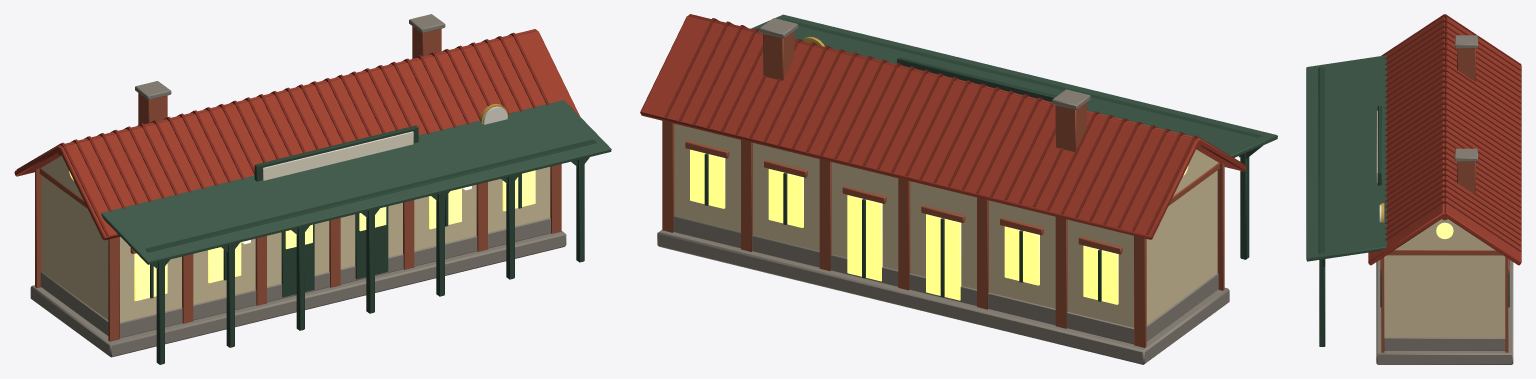
File: estacion.glb
The picture shows the model from 3 angles, left to right: view 1: azimuth 30°, elevation 25°; view 2: azimuth 150°, elevation 25°; view 3: azimuth 270°, elevation 25°; orthographic projection. The views are drawn at different scales.
Visible parts, largest first — view 1: estacion; view 2: estacion; view 3: estacion.
Boxes of the visible parts, box(x1,y1,x2,y2) form: estacion: box(14, 14, 611, 364); estacion: box(640, 14, 1277, 364); estacion: box(1306, 14, 1521, 364).
Size of the model in its own units: 6.5 by 2.7 by 2.98.
